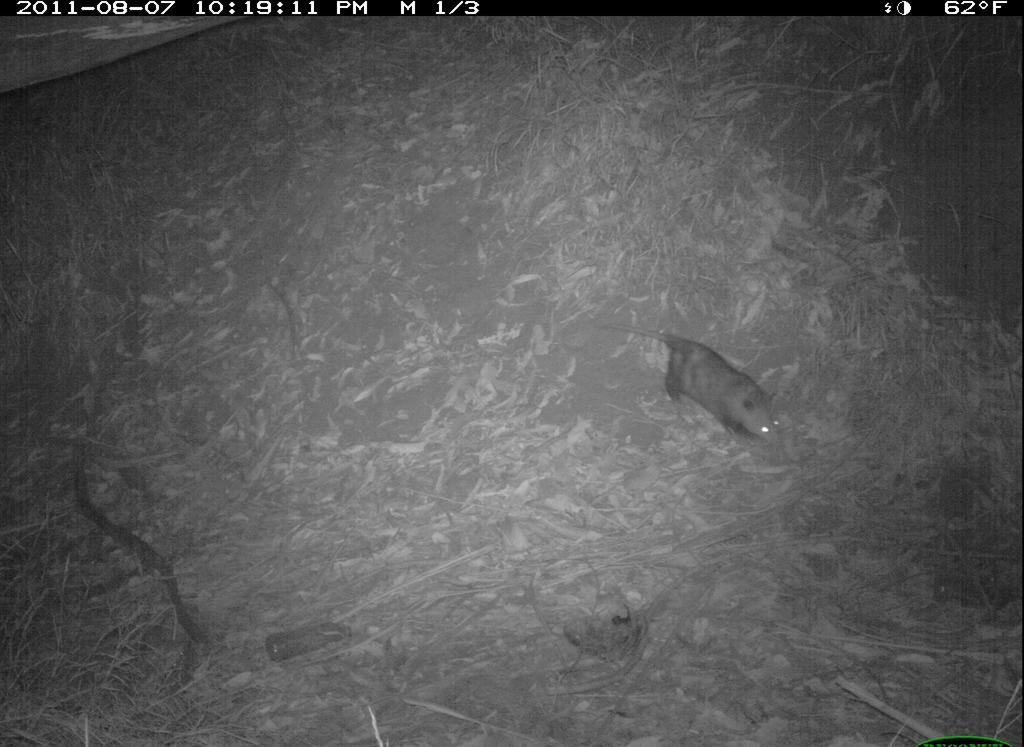opossum: (602, 315, 798, 468)
